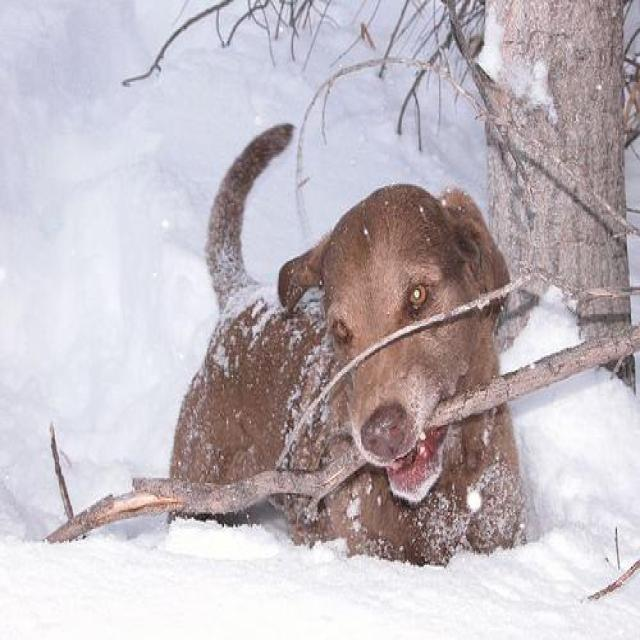angry: (167, 94, 615, 603)
